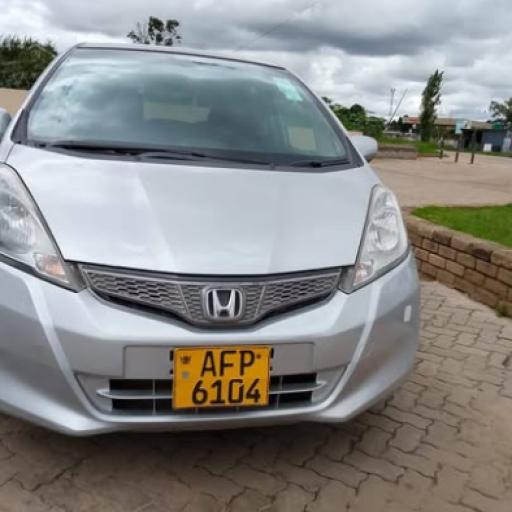number-plates: (176, 346, 264, 406)
